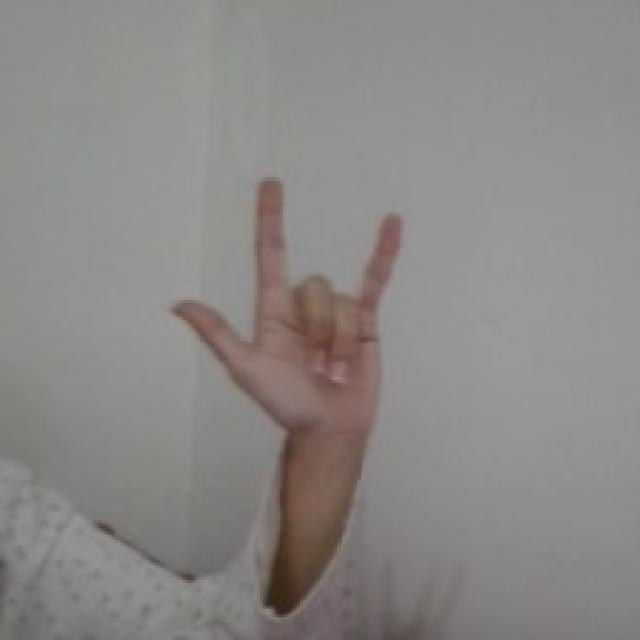love: (164, 170, 409, 453)
